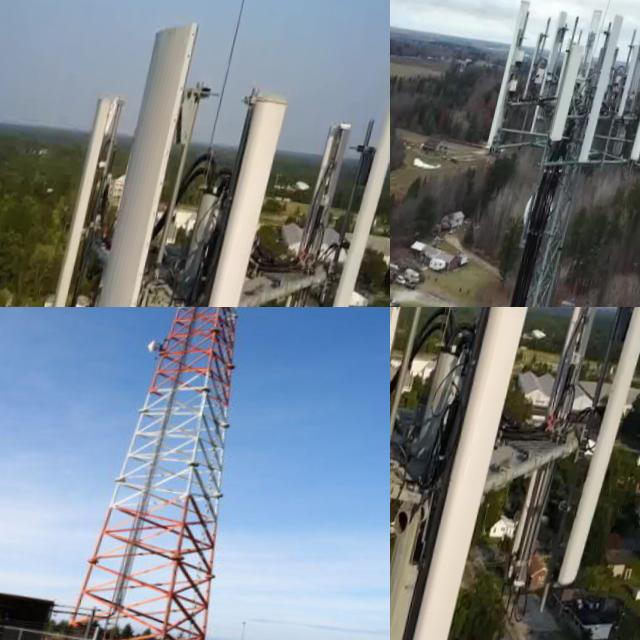GSM Antenna: (392, 307, 551, 640), (48, 11, 220, 307), (140, 87, 300, 307), (508, 307, 609, 604), (547, 307, 640, 612), (390, 307, 461, 640), (35, 89, 128, 307), (271, 116, 367, 307), (309, 82, 390, 307), (489, 0, 542, 158), (582, 13, 631, 172), (532, 7, 576, 148), (551, 40, 593, 153), (621, 45, 640, 124)
Microwave Antenna: (138, 332, 177, 367), (524, 193, 551, 242)
